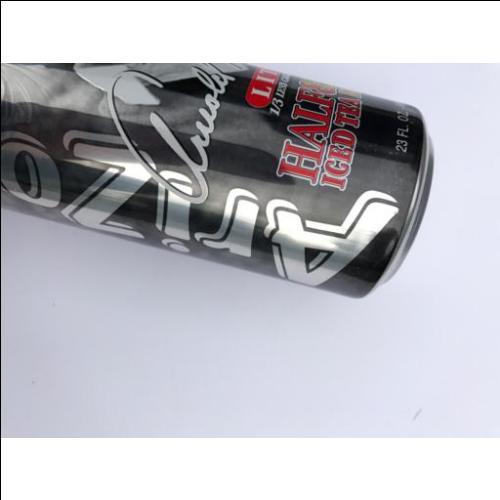metal: (0, 60, 433, 300)
